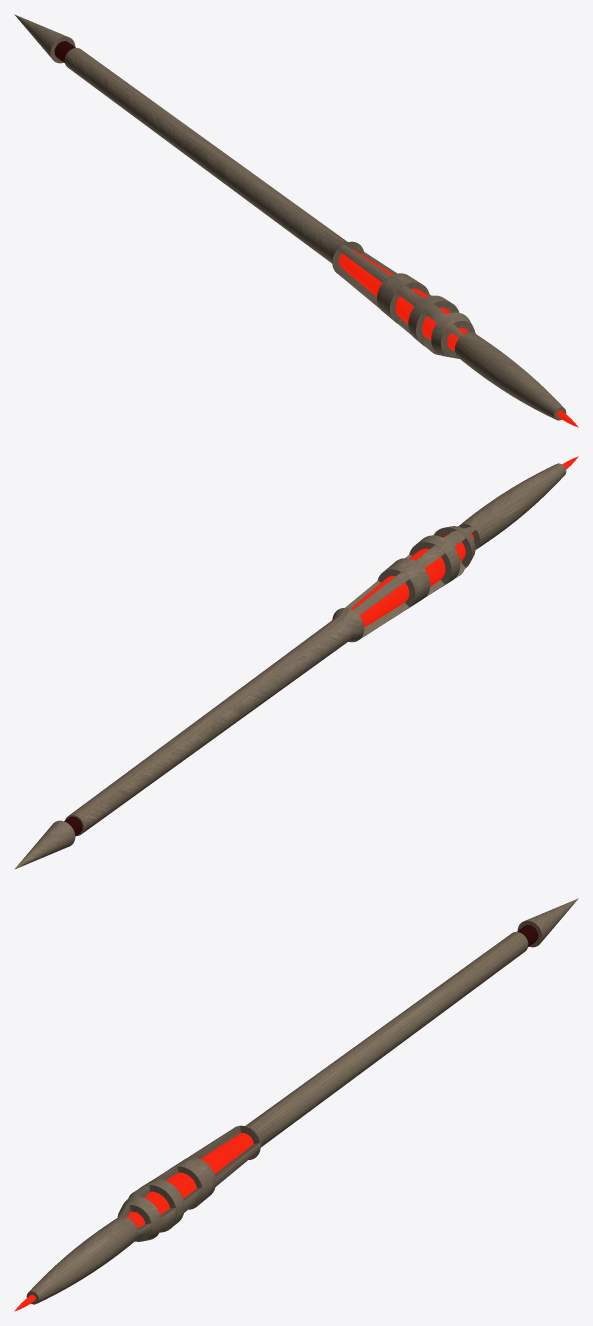
The model's file is Arrow.fbx.
The picture shows the model from 3 angles, top to bottom: view 1: azimuth 30°, elevation 25°; view 2: azimuth 150°, elevation 25°; view 3: azimuth 330°, elevation 25°; orthographic projection.
Parts seen in each view (by area): view 1: Yondu_Arrow; view 2: Yondu_Arrow; view 3: Yondu_Arrow.
Part boxes in pixels (x1,y1,x2,y2): Yondu_Arrow: (14,14,578,427); Yondu_Arrow: (14,456,578,869); Yondu_Arrow: (14,898,578,1311).
Size of the model in its own units: 9312 by 9214 by 203231.
